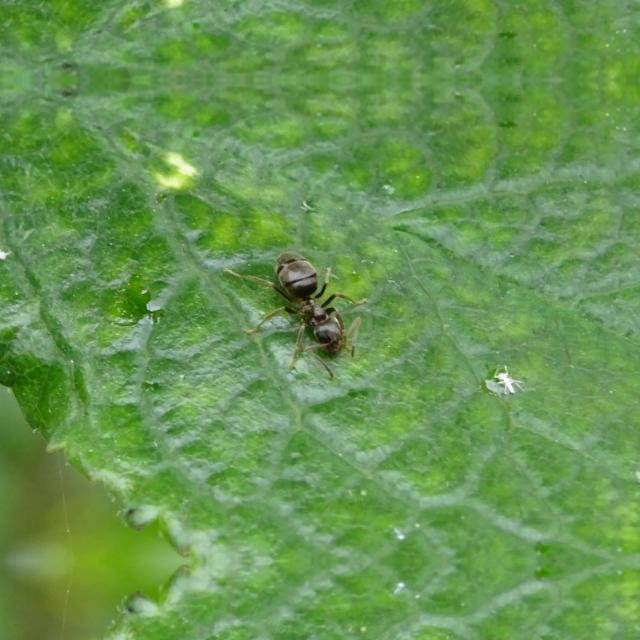Lasius: (258, 227, 366, 373)
